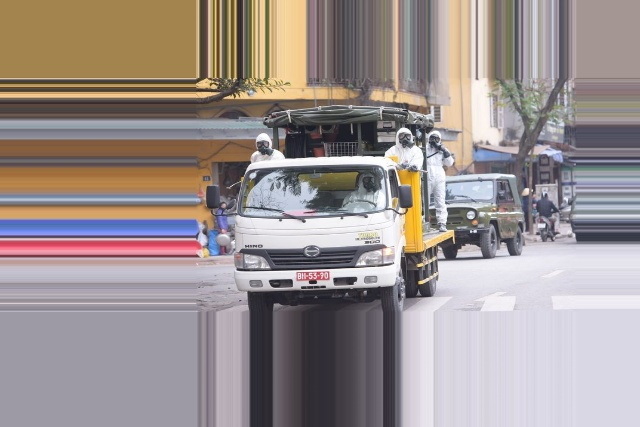plate: (293, 269, 331, 279)
